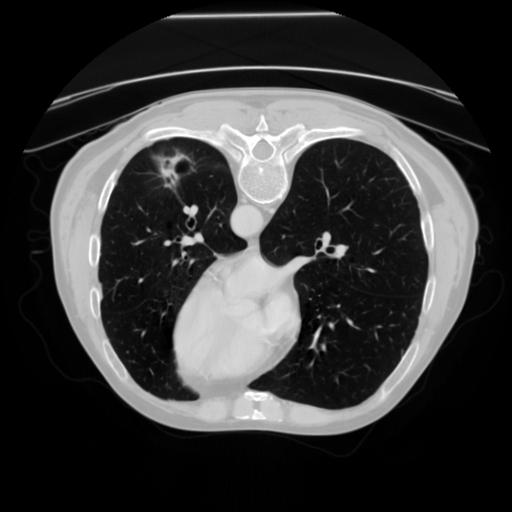nodule: (158, 153, 190, 185)
